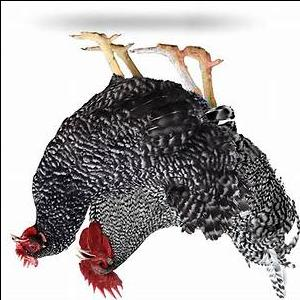hen: (10, 31, 300, 300)
